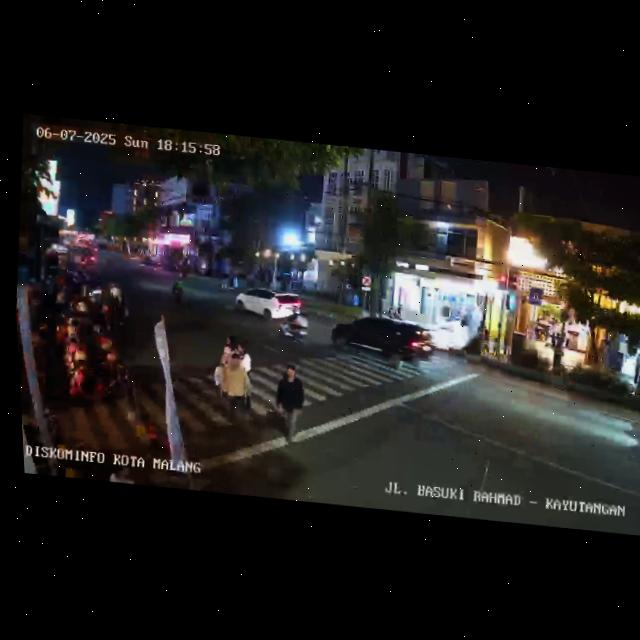car: (328, 310, 437, 369), (232, 284, 304, 327)
motorcycle: (276, 304, 312, 344), (169, 275, 186, 304)
person: (270, 363, 312, 441), (217, 350, 253, 424), (211, 334, 237, 386), (235, 342, 255, 374), (549, 332, 565, 368), (630, 353, 640, 386)
